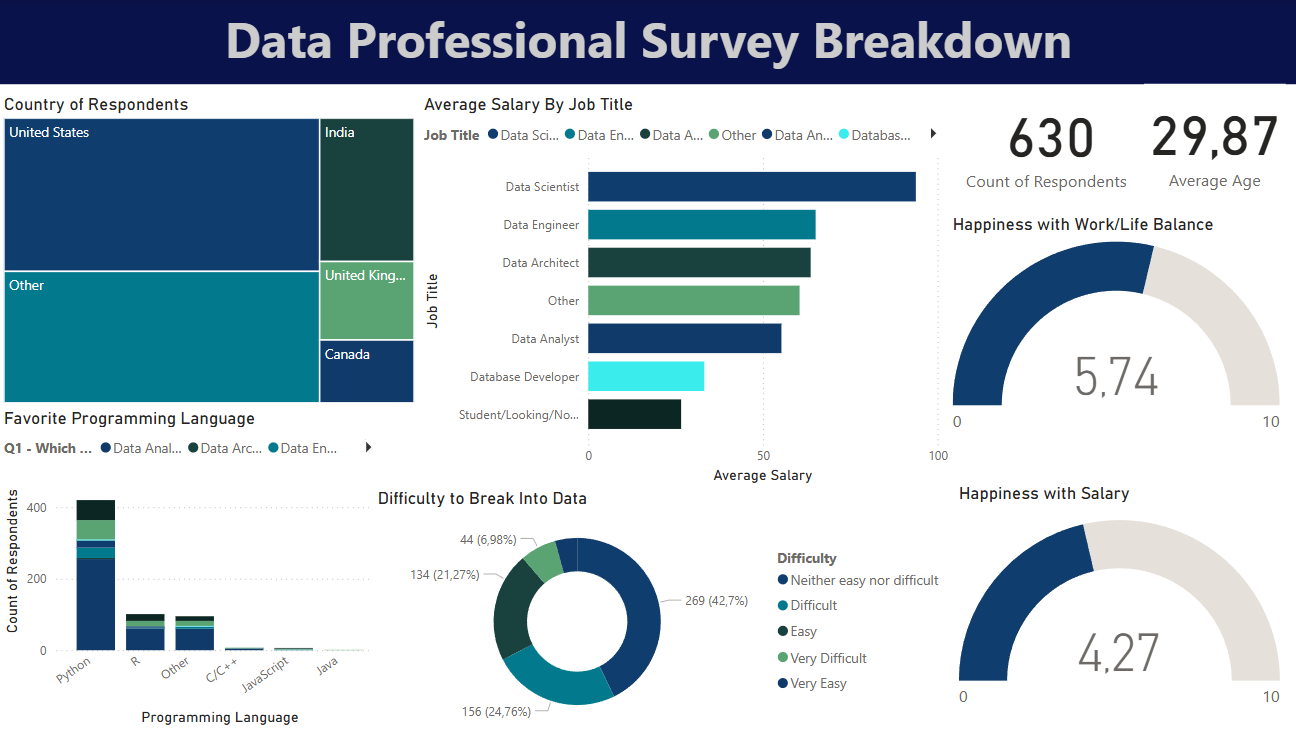

What the dashboard file says about the page in this screenshot:
{"tool":"powerbi","page":{"name":"Page 1","canvas":[1280,720],"ordinal":0},"visuals":[{"type":"textbox","box":[9.6,0,1270.7,82.3],"z":0},{"type":"card","fields":{"Values":["Count(Data Professional Survey.Unique ID)"]},"box":[947.5,83.8,182.5,110],"z":1000},{"type":"card","fields":{"Values":["Avg(Data Professional Survey.Q10 - Current Age)"]},"box":[1130,82.5,138.8,110],"z":2000},{"type":"barChart","title":"Average Salary By Job Title","fields":{"Category":["Data Professional Survey.Q1 - Which Title Best Fits your Current Role?.1"],"Y":["Avg(Data Professional Survey.Average Salary)"],"Series":["Data Professional Survey.Q1 - Which Title Best Fits your Current Role?.1"]},"box":[421.2,91.2,522.5,386.2],"z":3000},{"type":"columnChart","title":"Favorite Programming Language","fields":{"Y":["CountNonNull(Data Professional Survey.Unique ID)"],"Category":["Data Professional Survey.Q5 - Favorite Programming Language.1"],"Series":["Data Professional Survey.Q1 - Which Title Best Fits your Current Role?.1"]},"box":[10,398.8,381.2,316.2],"z":4000},{"type":"treemap","title":"Country of Respondents  ","fields":{"Group":["Data Professional Survey.Q11 - Which Country do you live in?.1"],"Values":["CountNonNull(Data Professional Survey.Q11 - Which Country do you live in?.1)"]},"box":[10,91.2,411.2,307.5],"z":5000},{"type":"gauge","title":"Happiness with Work/Life Balance","fields":{"Y":["Avg(Data Professional Survey.Q6 - How Happy are you in your Current Position with the following? (Work/Life Balance))"],"MinValue":["Min(Data Professional Survey.Q6 - How Happy are you in your Current Position with the following? (Work/Life Balance))"],"MaxValue":["Max(Data Professional Survey.Q6 - How Happy are you in your Current Position with the following? (Work/Life Balance))"]},"box":[944,232.3,325.3,227.4],"z":6000},{"type":"gauge","title":"Happiness with Salary","fields":{"Y":["Avg(Data Professional Survey.Q6 - How Happy are you in your Current Position with the following? (Salary))"],"MinValue":["Min(Data Professional Survey.Q6 - How Happy are you in your Current Position with the following? (Salary))"],"MaxValue":["Max(Data Professional Survey.Q6 - How Happy are you in your Current Position with the following? (Salary))"]},"box":[944,476.9,336.3,243.3],"z":7000},{"type":"donutChart","title":"Difficulty to Break Into Data","fields":{"Category":["Data Professional Survey.Q7 - How difficult was it for you to break into Data?"],"Y":["CountNonNull(Data Professional Survey.Q7 - How difficult was it for you to break into Data?)"]},"box":[375.4,476.9,568.6,243.3],"z":8000}]}

Visuals, with their boxes in screenshot pixels (x1, y1, x2, y2), scaled from the page's 1280x720 canvas onto the 1296x733 screenshot:
textbox: region(10, 0, 1295, 84)
card - Count(Data Professional Survey.Unique ID): region(959, 85, 1144, 197)
card - Avg(Data Professional Survey.Q10 - Current Age): region(1144, 84, 1285, 196)
"Average Salary By Job Title" barChart: region(426, 93, 955, 486)
"Favorite Programming Language" columnChart: region(10, 406, 396, 728)
"Country of Respondents  " treemap: region(10, 93, 426, 406)
"Happiness with Work/Life Balance" gauge: region(956, 236, 1285, 468)
"Happiness with Salary" gauge: region(956, 486, 1295, 732)
"Difficulty to Break Into Data" donutChart: region(380, 486, 956, 732)
